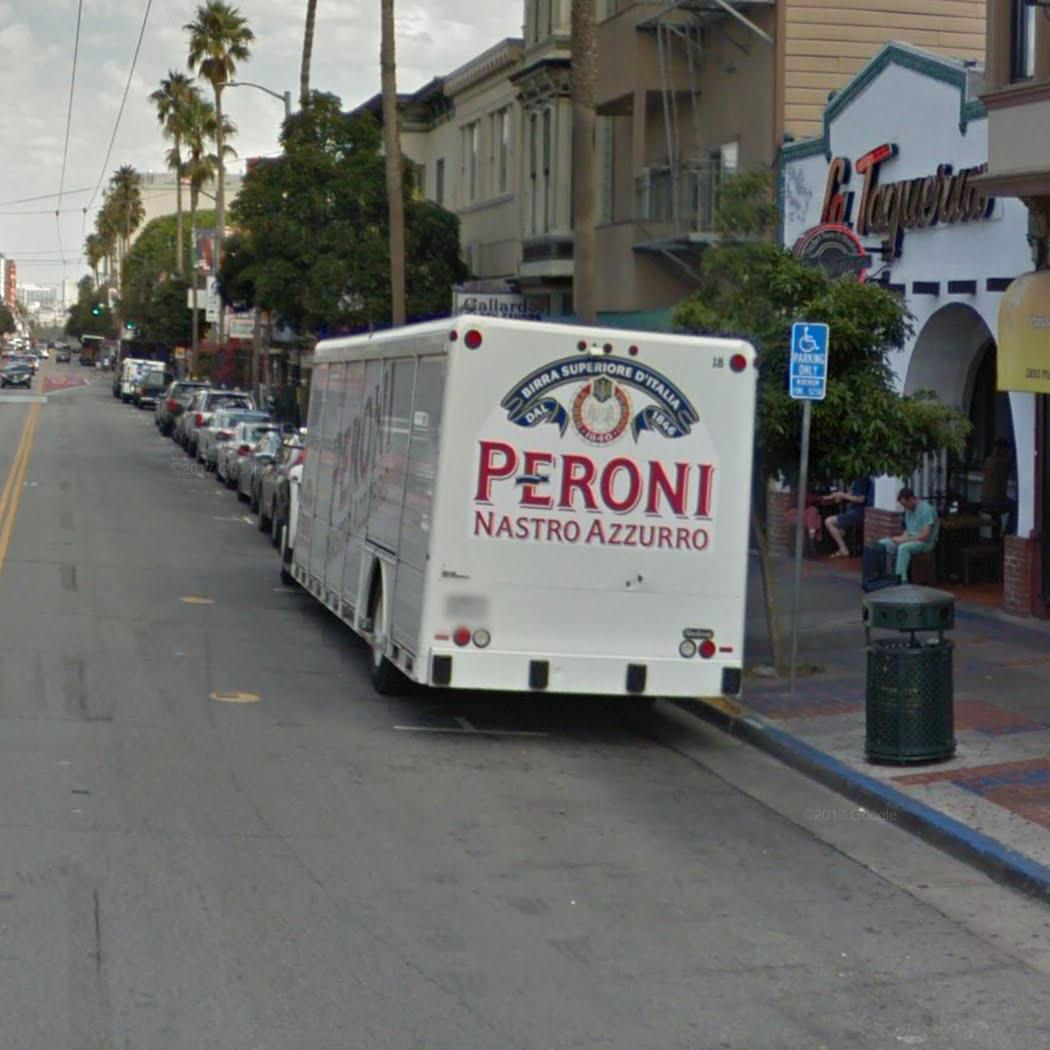Disabled Parking Only: (789, 321, 831, 400)
